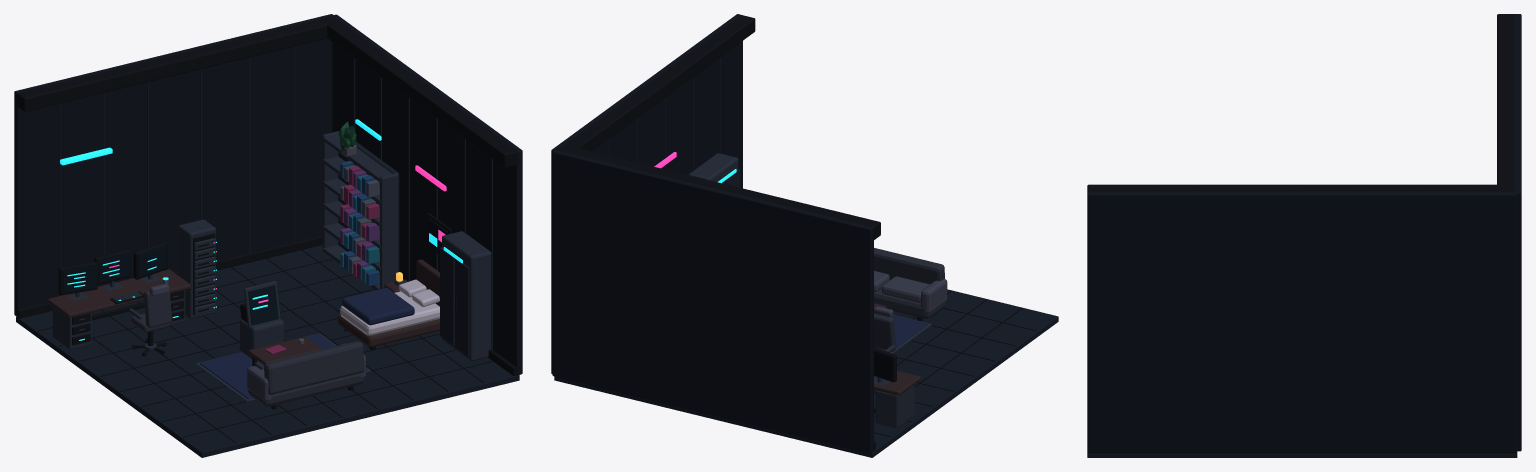
Rendered from cyberpunk-homepage-room.glb.
3 views of the same model, side by side, from view 1: azimuth 30°, elevation 25°; view 2: azimuth 150°, elevation 25°; view 3: azimuth 270°, elevation 25° (orthographic). The views are drawn at different scales.
Visible parts, largest first — view 1: north_wall, floor_base, east_wall, ceiling_beam_north, ceiling_beam_east, wardrobe_shell, sofa_backrest, desk_top, bookshelf_side_south, bed_blanket, server_rack_shell, north_baseboard (+20 smaller); view 2: north_wall, floor_base, east_wall, ceiling_beam_east, ceiling_beam_north, sofa_backrest, desk_drawer_cabinet_left, wardrobe_shell, sofa_base, sofa_cushion_left, chair_back, sofa_armrest_left (+3 smaller); view 3: east_wall, ceiling_beam_east, ceiling_beam_north, north_wall, floor_base.
Boxes of the visible parts, bbox=[...] form: north_wall: bbox=[14, 14, 333, 316]; floor_base: bbox=[16, 245, 519, 457]; east_wall: bbox=[332, 14, 522, 375]; ceiling_beam_north: bbox=[16, 16, 338, 111]; ceiling_beam_east: bbox=[320, 15, 518, 167]; wardrobe_shell: bbox=[442, 231, 491, 361]; sofa_backrest: bbox=[264, 341, 364, 394]; desk_top: bbox=[47, 269, 191, 317]; bookshelf_side_south: bbox=[380, 173, 398, 288]; bed_blanket: bbox=[342, 288, 414, 325]; server_rack_shell: bbox=[178, 219, 215, 318]; north_baseboard: bbox=[17, 235, 322, 318]; north_wall: bbox=[552, 150, 873, 453]; floor_base: bbox=[554, 289, 1058, 457]; east_wall: bbox=[551, 14, 742, 374]; ceiling_beam_east: bbox=[562, 15, 755, 153]; ceiling_beam_north: bbox=[557, 145, 880, 240]; sofa_backrest: bbox=[874, 248, 944, 284]; desk_drawer_cabinet_left: bbox=[875, 385, 914, 428]; wardrobe_shell: bbox=[689, 153, 738, 181]; sofa_base: bbox=[874, 288, 946, 318]; sofa_cushion_left: bbox=[882, 276, 929, 302]; chair_back: bbox=[874, 313, 896, 351]; sofa_armrest_left: bbox=[921, 279, 947, 313]; east_wall: bbox=[1087, 191, 1517, 452]; ceiling_beam_east: bbox=[1087, 184, 1515, 191]; ceiling_beam_north: bbox=[1497, 14, 1514, 188]; north_wall: bbox=[1514, 14, 1521, 451]; floor_base: bbox=[1087, 452, 1517, 457].
Size of the model in its own units: 7.27 by 4.97 by 7.37.
